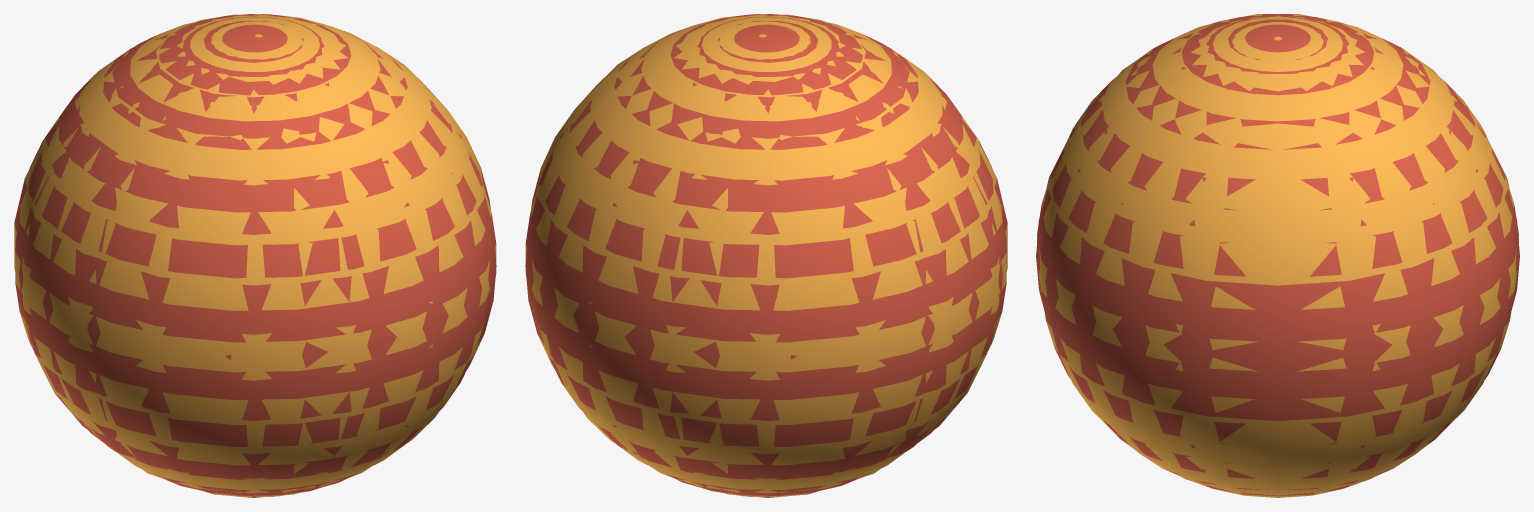
File: SM_Balls_01a.fbx
The picture shows the model from 3 angles, left to right: view 1: azimuth 30°, elevation 25°; view 2: azimuth 150°, elevation 25°; view 3: azimuth 270°, elevation 25°; orthographic projection.
Visible parts, largest first — view 1: SM_Ball_01b, SM_Ball_01a, pSphere1; view 2: SM_Ball_01b, SM_Ball_01a, pSphere1; view 3: SM_Ball_01a, SM_Ball_01b, pSphere1.
Part boxes in pixels (left/top/right/bottom): SM_Ball_01b: left=15, top=14, right=496, bottom=497; SM_Ball_01a: left=19, top=14, right=496, bottom=496; pSphere1: left=14, top=15, right=482, bottom=497; SM_Ball_01b: left=525, top=14, right=1006, bottom=497; SM_Ball_01a: left=525, top=14, right=1002, bottom=496; pSphere1: left=539, top=15, right=1007, bottom=497; SM_Ball_01a: left=1036, top=15, right=1519, bottom=497; SM_Ball_01b: left=1037, top=14, right=1518, bottom=496; pSphere1: left=1038, top=14, right=1517, bottom=471.
Bounding box in the file's own units: 100 × 100 × 100.
